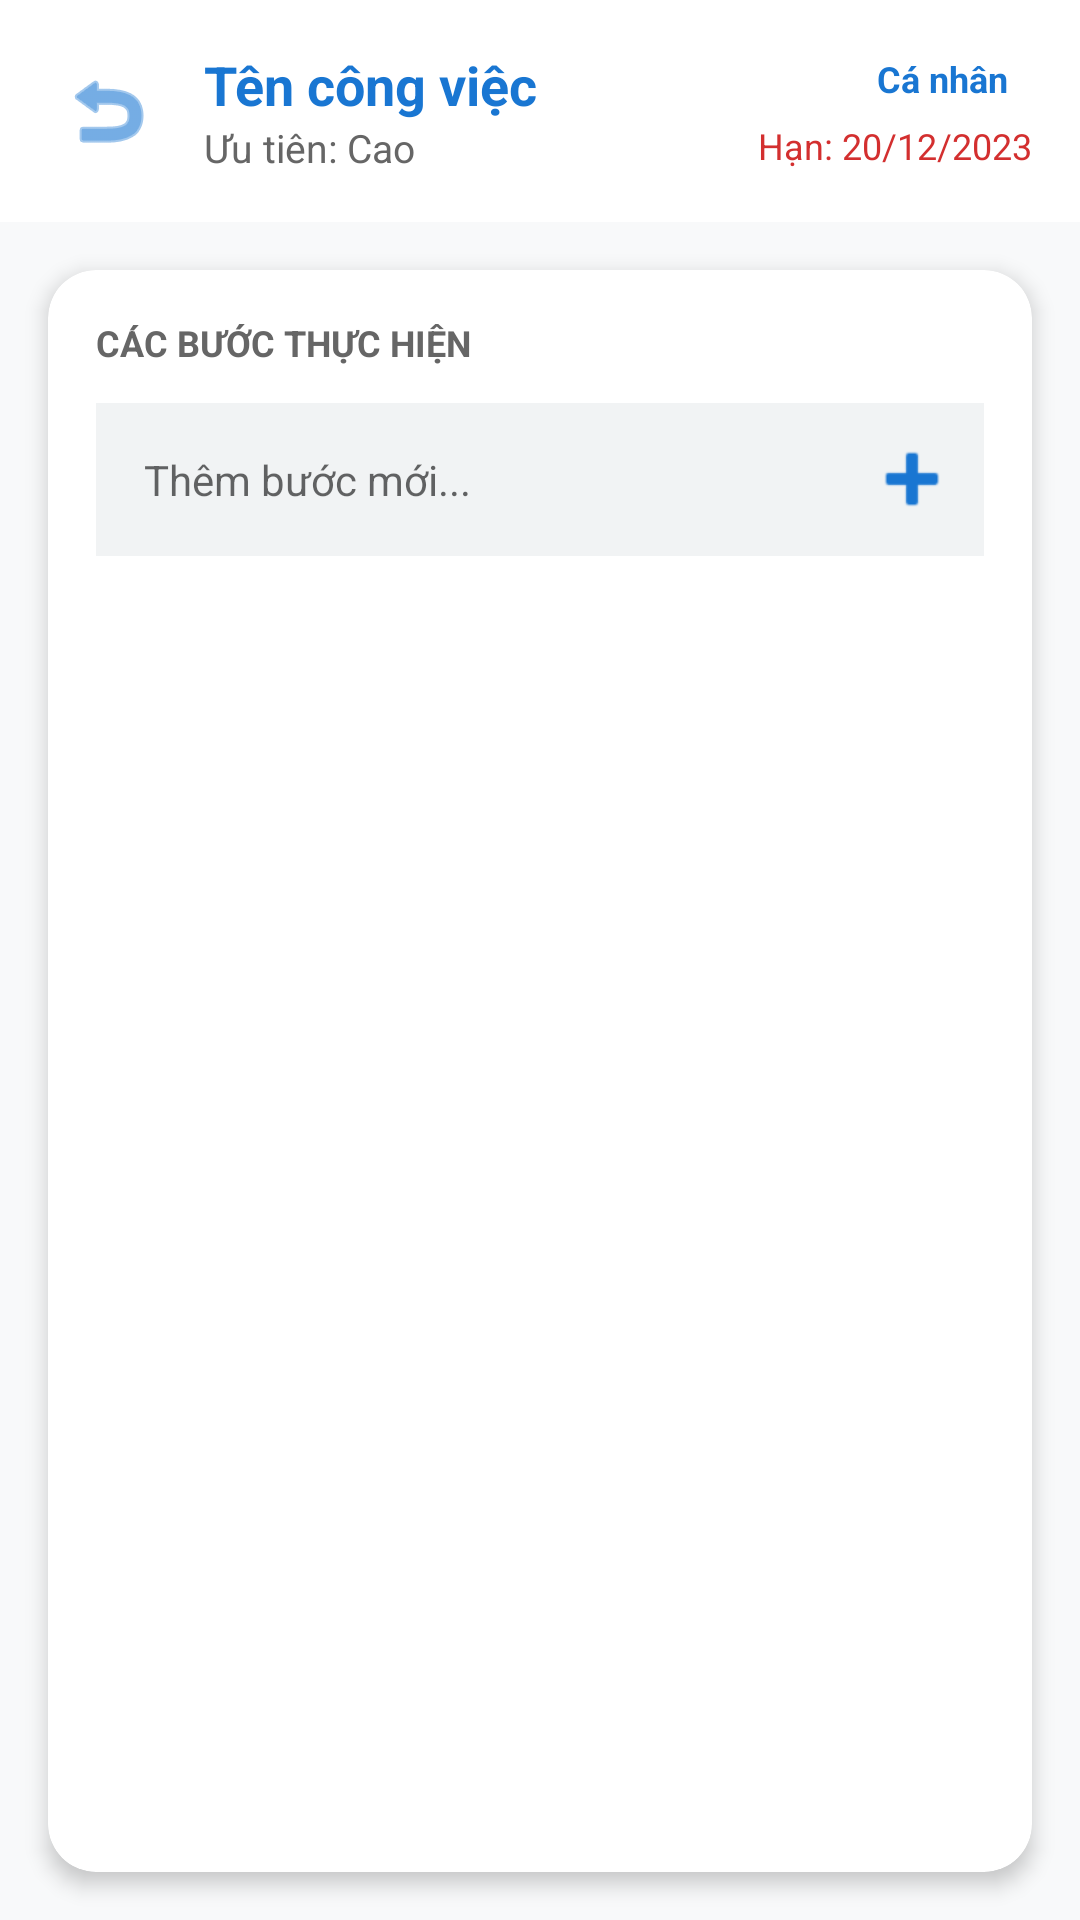

Icons on this 1080w x 1920h Android screen, each with the point to tap as (x,y):
add: (912,479)
revert: (109,111)
